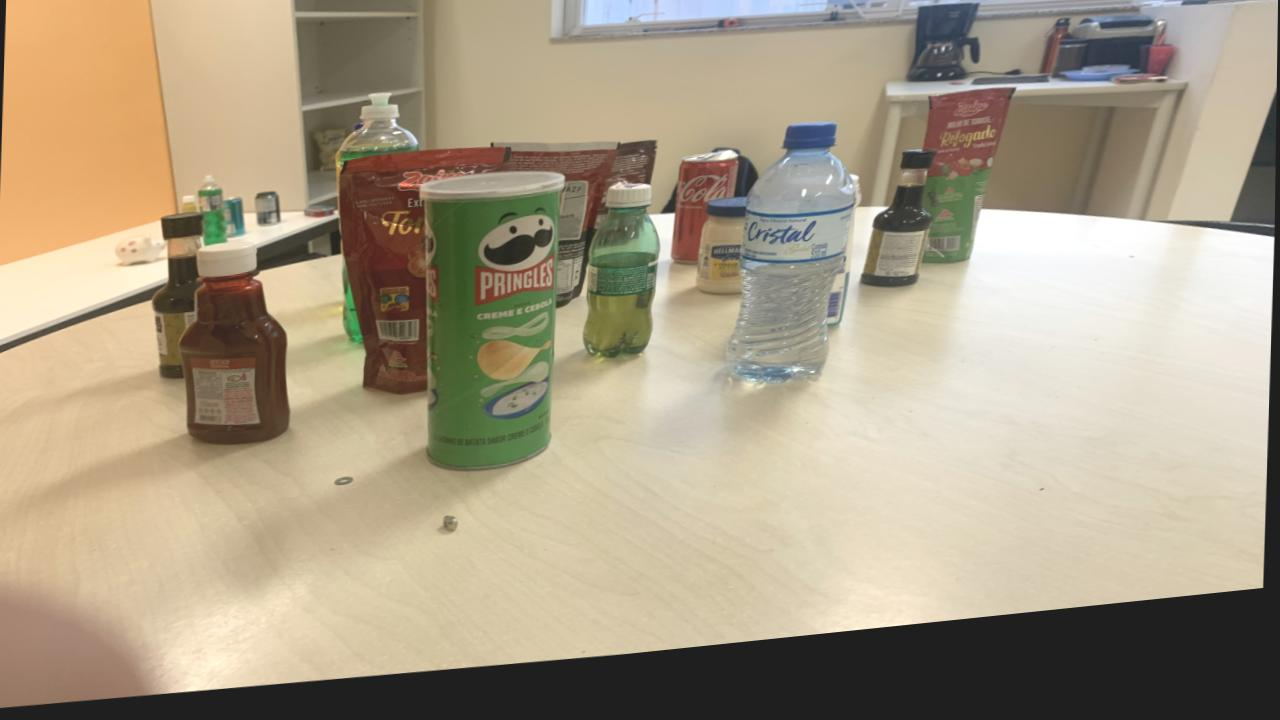Cleaner-Cleanup_Items: (827, 234, 855, 344), (851, 193, 863, 228)
Coffee-Pantry_Items: (496, 153, 618, 318), (607, 155, 658, 201), (595, 212, 608, 243)
Coke-Drinks: (672, 167, 739, 279)
Detergent-Cleanup_Items: (335, 101, 418, 190), (197, 180, 229, 249), (342, 272, 363, 350)
English_Sauce-Pantry_Items: (861, 171, 934, 307), (154, 216, 204, 383)
Guarana-Drinks: (584, 196, 660, 371)
Guarana_Can-Drinks: (255, 198, 282, 232)
Ketchup-Pantry_Items: (180, 247, 291, 450)
Mayonnaise-Pantry_Items: (698, 213, 748, 310)
Mustard-Pantry_Items: (182, 199, 200, 217)
Pig_Safe-Miscellaneous: (116, 238, 166, 268)
Pringles-Snacks: (420, 182, 565, 481)
Tea-Drinks: (224, 202, 247, 244)
Tomato_Sauce-Pantry_Items: (339, 158, 510, 403), (498, 153, 618, 318), (923, 109, 1016, 284)
Tuna_Can-Pantry_Items: (304, 212, 337, 225)
Water_Bottle-Drinks: (728, 140, 856, 399)
